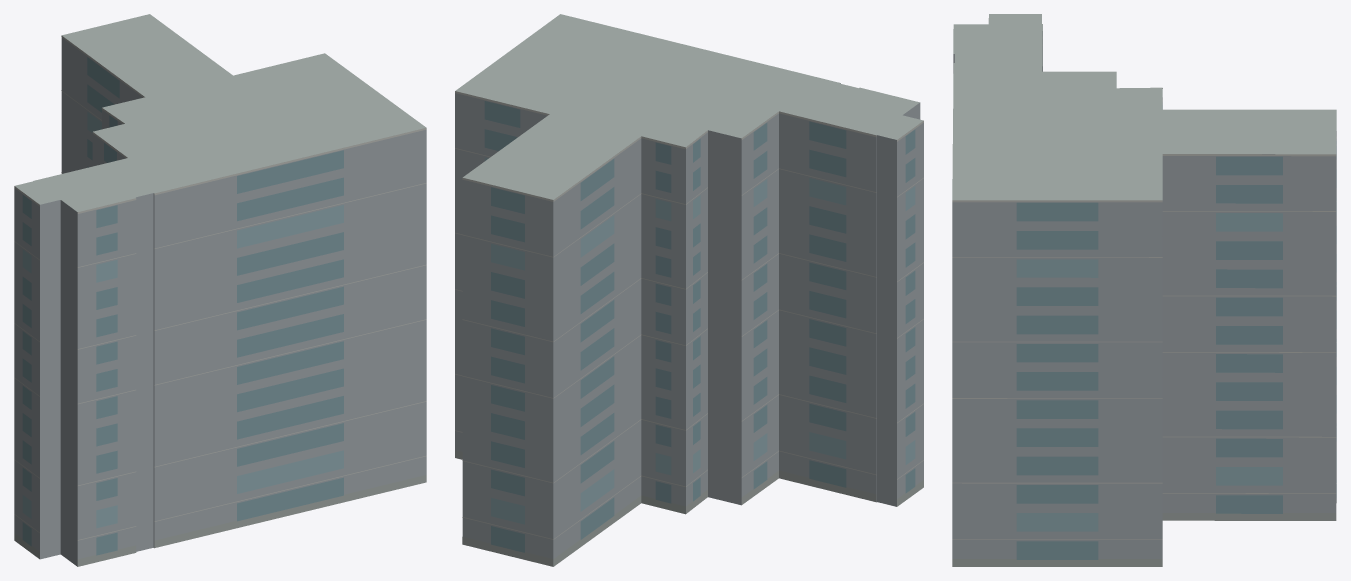
The model's file is survey-upis-32485684.glb.
3 views of the same model, side by side, from view 1: azimuth 30°, elevation 25°; view 2: azimuth 150°, elevation 25°; view 3: azimuth 270°, elevation 25° (orthographic). The views are drawn at different scales.
Visible parts, largest first — view 1: survey-upis-32485684.tmp; view 2: survey-upis-32485684.tmp; view 3: survey-upis-32485684.tmp.
Part boxes in pixels (<box>): survey-upis-32485684.tmp: <box>14,14,426,566</box>; survey-upis-32485684.tmp: <box>455,14,923,566</box>; survey-upis-32485684.tmp: <box>952,14,1336,566</box>.
Size of the model in its own units: 49.16 by 45.12 by 42.89.
